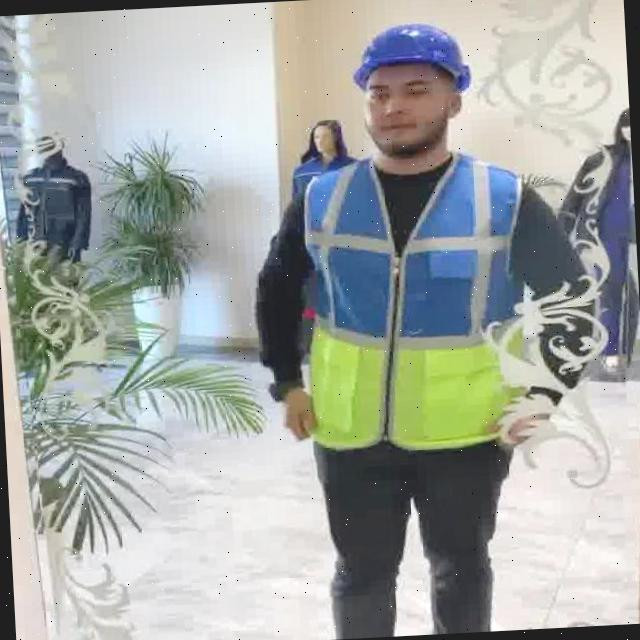helmet: (350, 22, 475, 97)
vest: (299, 148, 542, 456)
